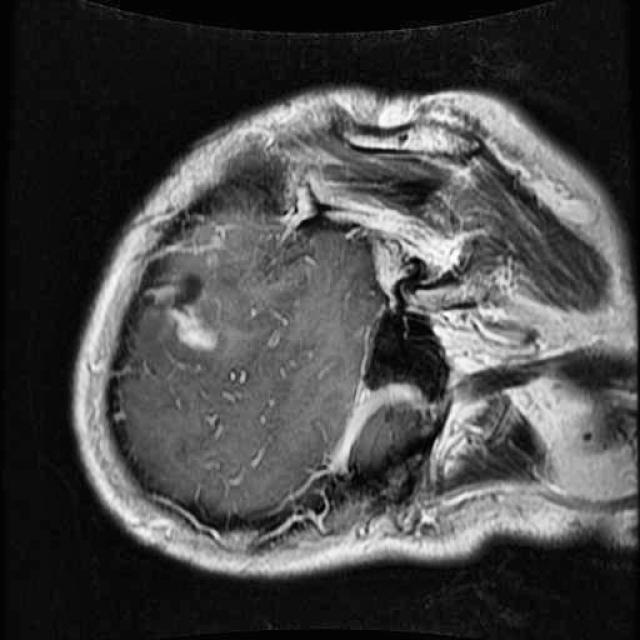Tumor: (162, 284, 229, 365)
